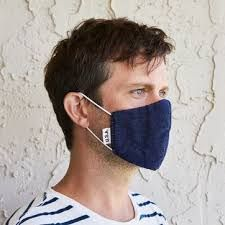with-mask: (60, 34, 175, 172)
